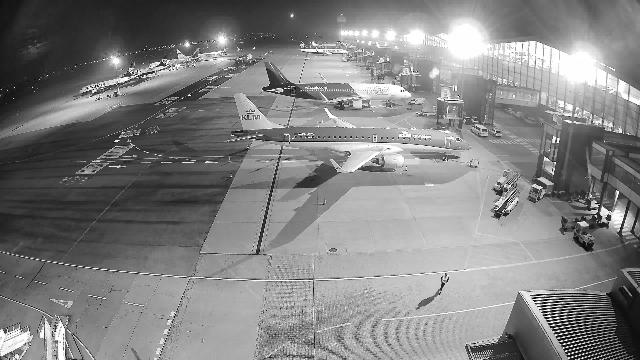Aircraft: (224, 93, 471, 173), (262, 62, 412, 109), (79, 61, 142, 95), (116, 53, 172, 79), (213, 47, 274, 64), (148, 50, 191, 69), (299, 40, 348, 55), (173, 49, 217, 60)
Airport_Tractor: (574, 221, 595, 249), (528, 183, 546, 202)
Baggage_Trolley: (537, 177, 554, 193), (561, 216, 579, 230), (581, 215, 597, 228), (596, 213, 612, 225), (566, 190, 581, 202)
Conveyor_Belt: (493, 184, 520, 215), (493, 168, 522, 194), (416, 106, 437, 116)
Ground_Crew: (440, 273, 449, 292)
